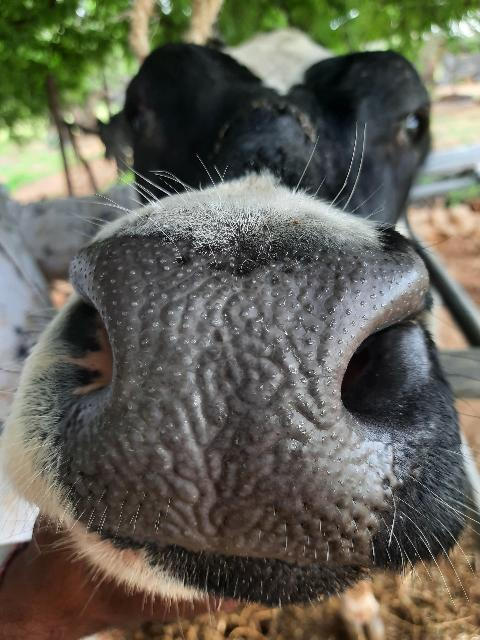Muzzle: (85, 242, 371, 550)
